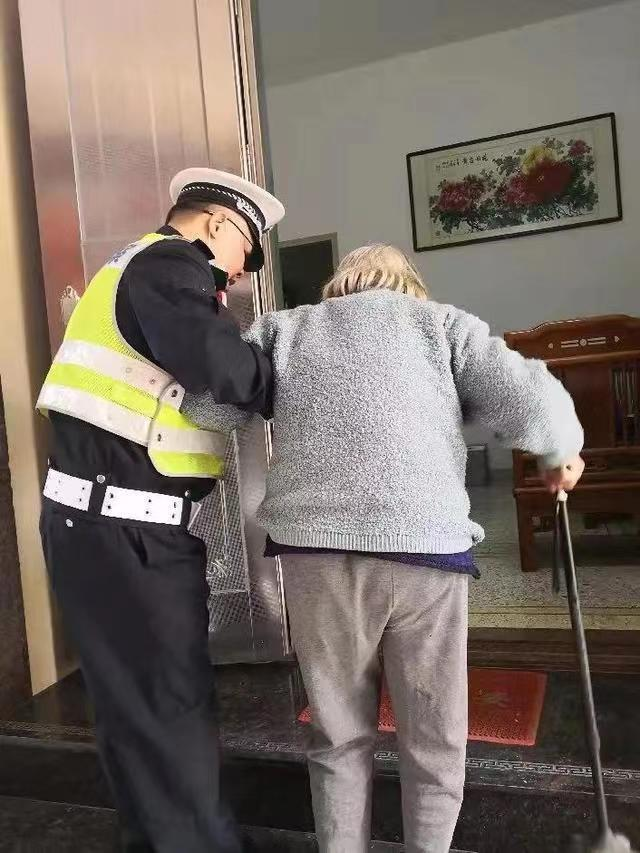bending: (231, 241, 563, 853), (33, 171, 285, 844)
